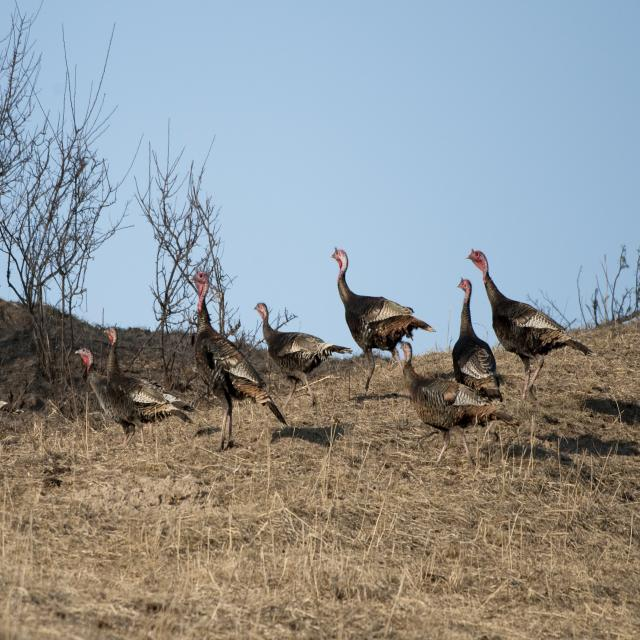bird: (191, 268, 285, 450), (472, 264, 598, 398), (68, 346, 196, 443), (328, 252, 437, 363), (255, 298, 348, 404), (101, 323, 195, 418), (449, 278, 504, 397)
